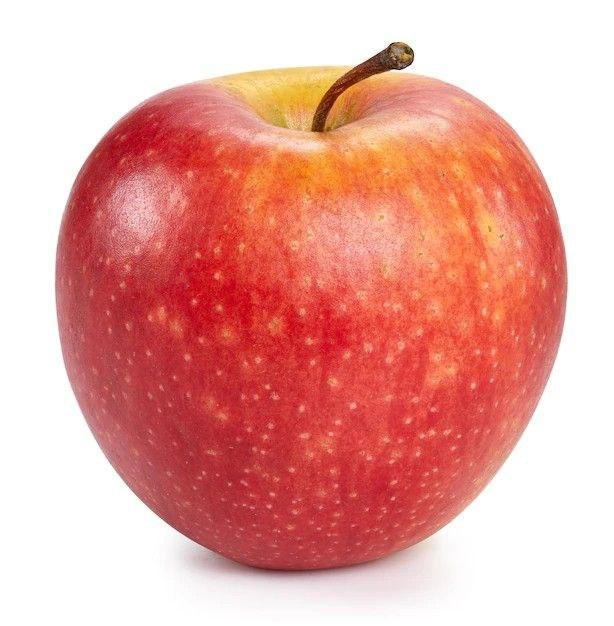Apple: (55, 69, 566, 568)
